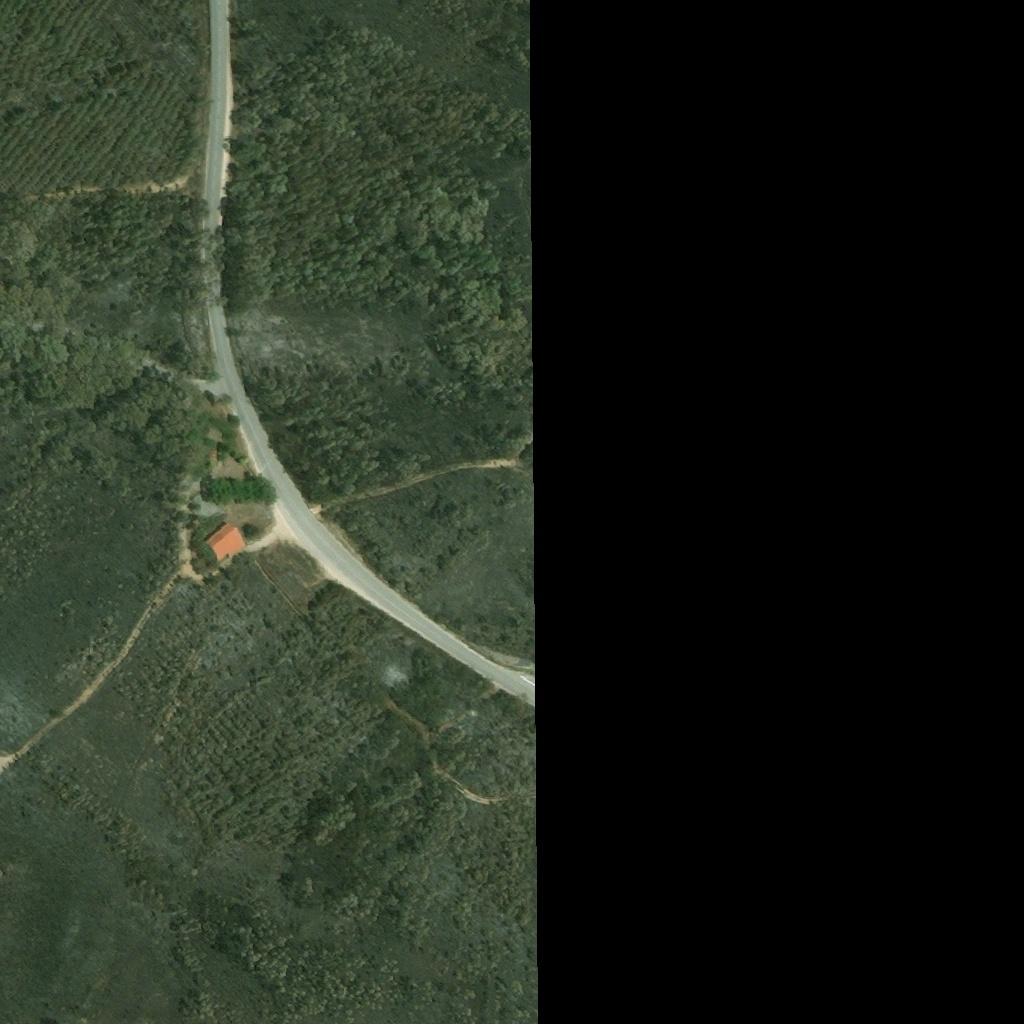0 no-damage: (202, 522, 248, 560), (207, 446, 219, 461)
